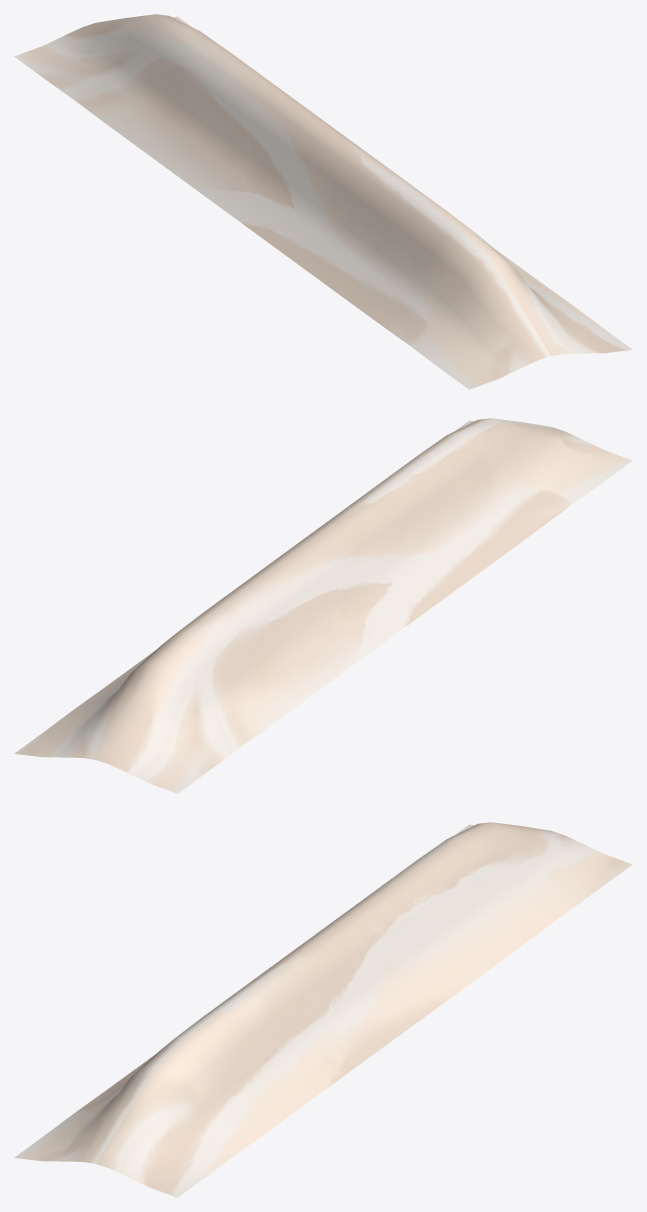
Rendered from sandbank.glb.
The picture shows the model from 3 angles, top to bottom: view 1: azimuth 30°, elevation 25°; view 2: azimuth 150°, elevation 25°; view 3: azimuth 330°, elevation 25°; orthographic projection.
Parts seen in each view (by area): view 1: Plane; view 2: Plane; view 3: Plane.
Boxes of the visible parts, x1=… form: Plane: x1=14, y1=14, x2=632, y2=389; Plane: x1=14, y1=418, x2=632, y2=793; Plane: x1=14, y1=822, x2=632, y2=1197.
Size of the model in its own units: 4.78 by 2.11 by 23.04.
1 material, 1 textured.
